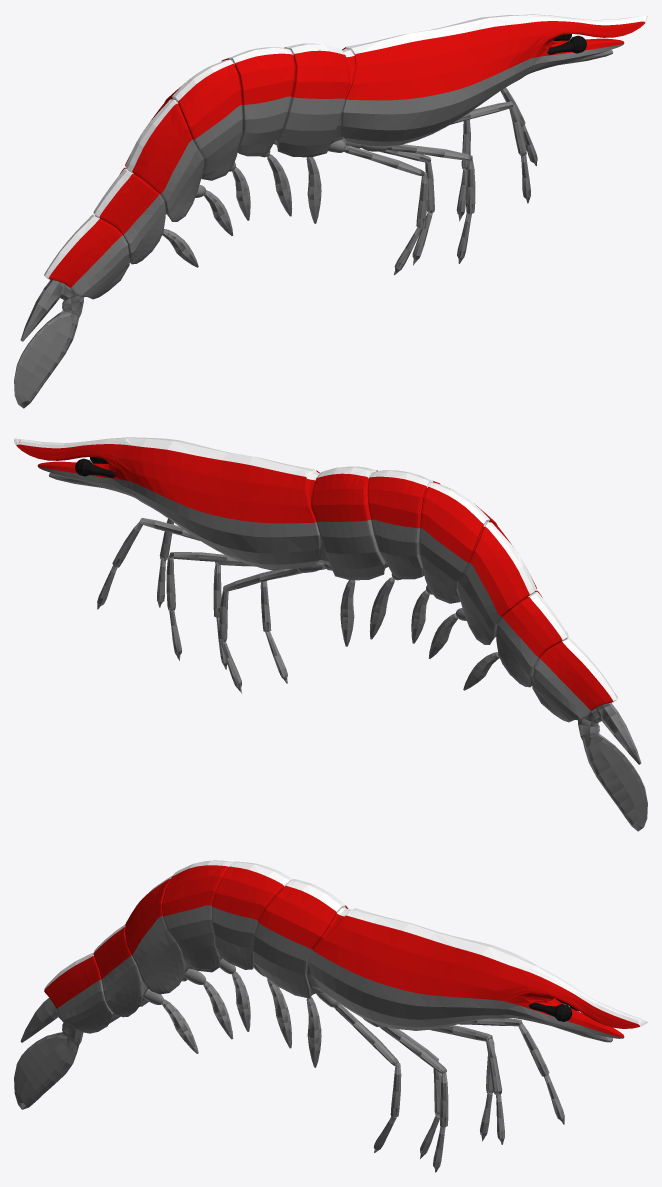
The model's file is Maron_Shrimp_Model.fbx.
The picture shows the model from 3 angles, top to bottom: view 1: azimuth 30°, elevation 25°; view 2: azimuth 150°, elevation 25°; view 3: azimuth 330°, elevation 25°; orthographic projection.
Visible parts, largest first — view 1: Shrimp001; view 2: Shrimp001; view 3: Shrimp001.
Part boxes in pixels (x1,y1,x2,y2): Shrimp001: (14, 14, 647, 408); Shrimp001: (14, 437, 647, 831); Shrimp001: (14, 860, 647, 1172).
Size of the model in its own units: 0.5498 by 0.2499 by 0.069.
